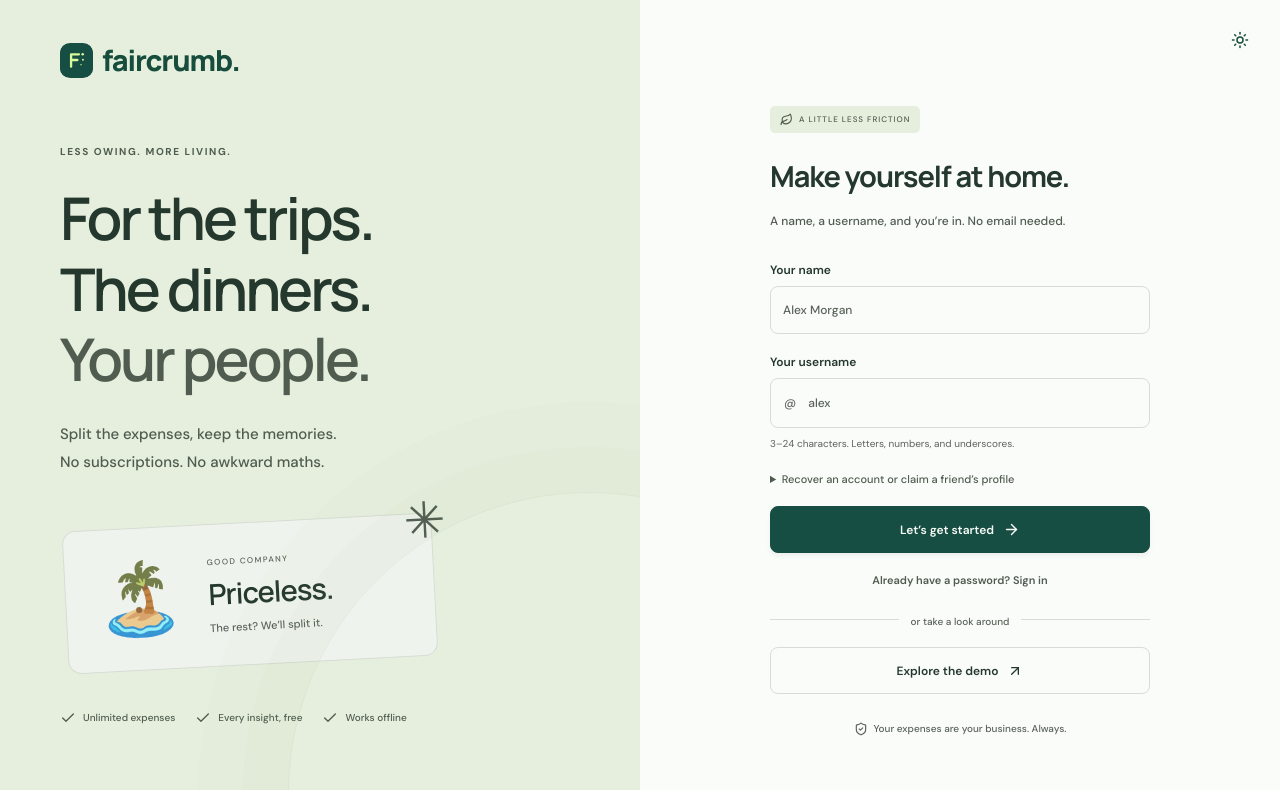
Test: opens the notification inbox from the persistent header bell
The image size is (1280, 790).
Click the button "Explore the demo" at point(960, 671), box top-left (770, 647), bottom-right (1150, 694)
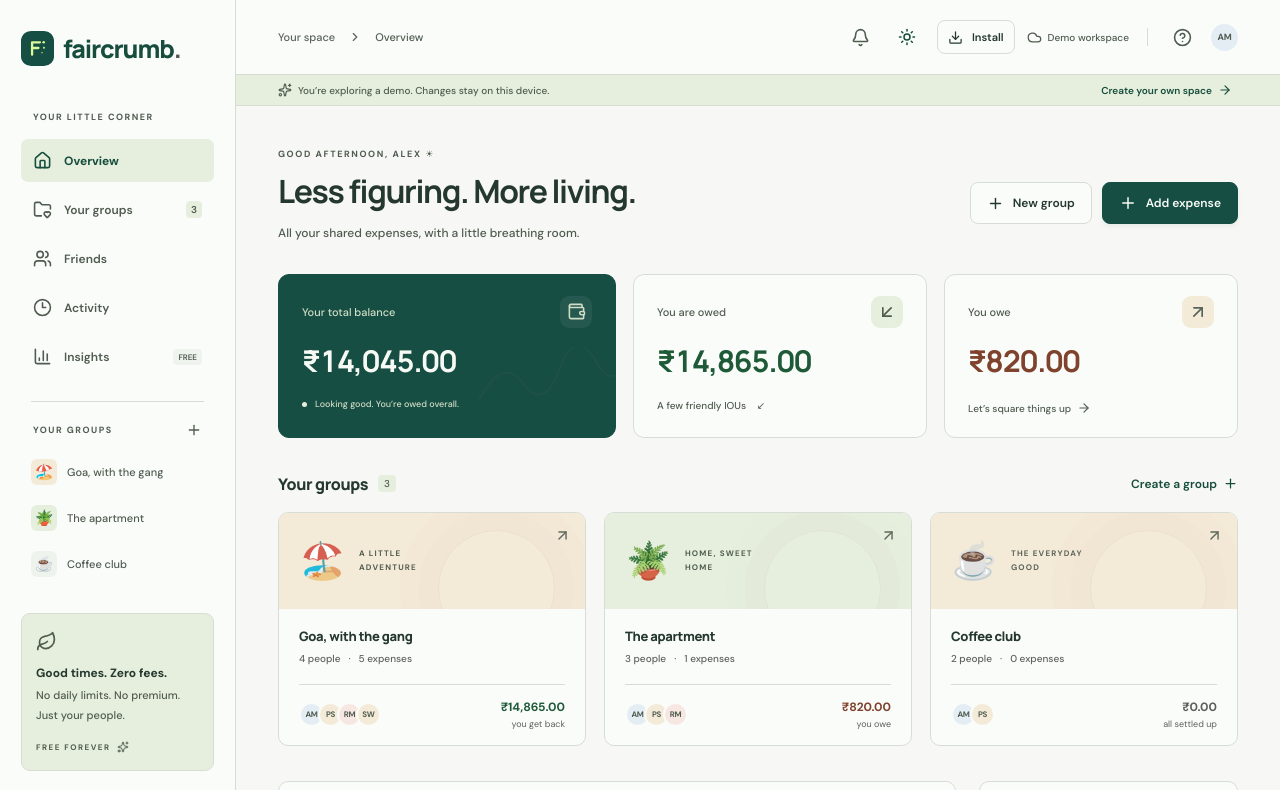
Click the button named "Notifications" at point(860, 37), box top-left (844, 20), bottom-right (877, 54)
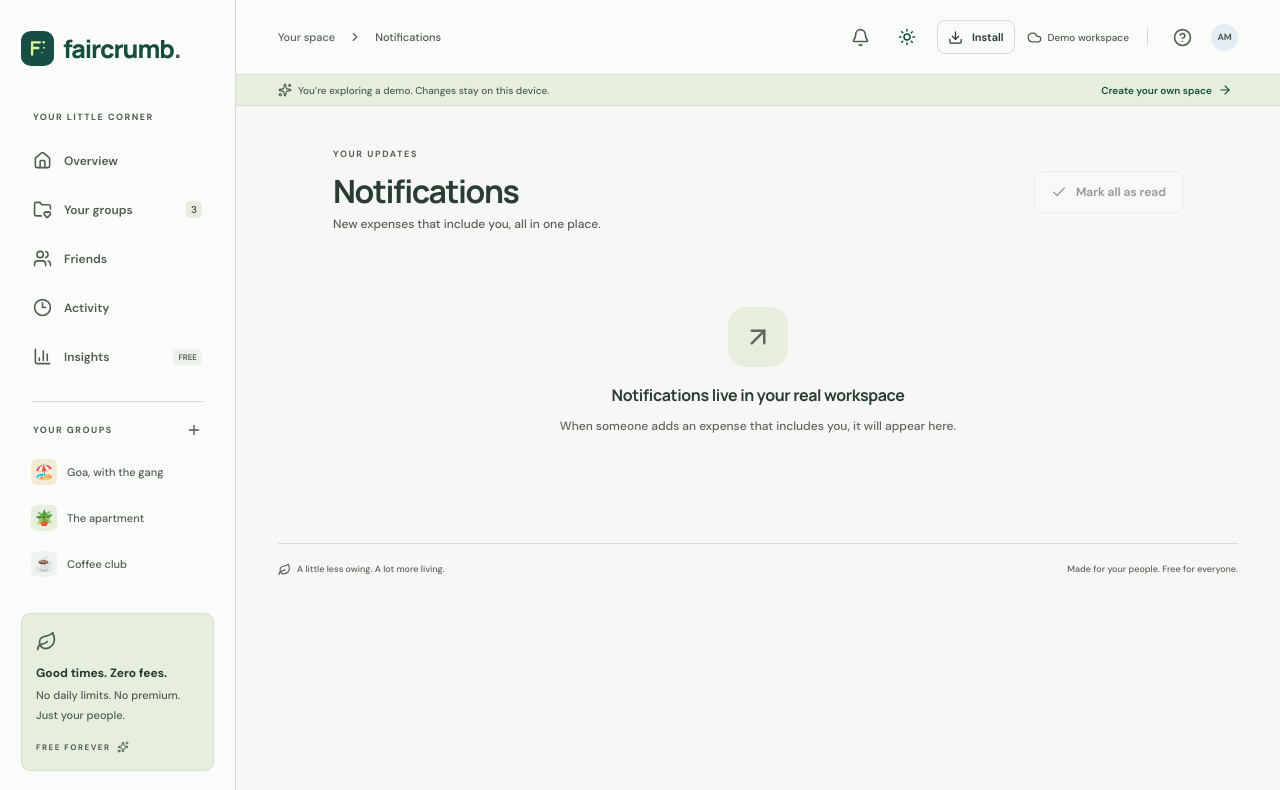
Expected: the heading "Notifications" is shown, top-left (333, 169), bottom-right (518, 213)
Expected: the text "Notifications live in your real workspace" is shown, top-left (612, 384), bottom-right (904, 406)
